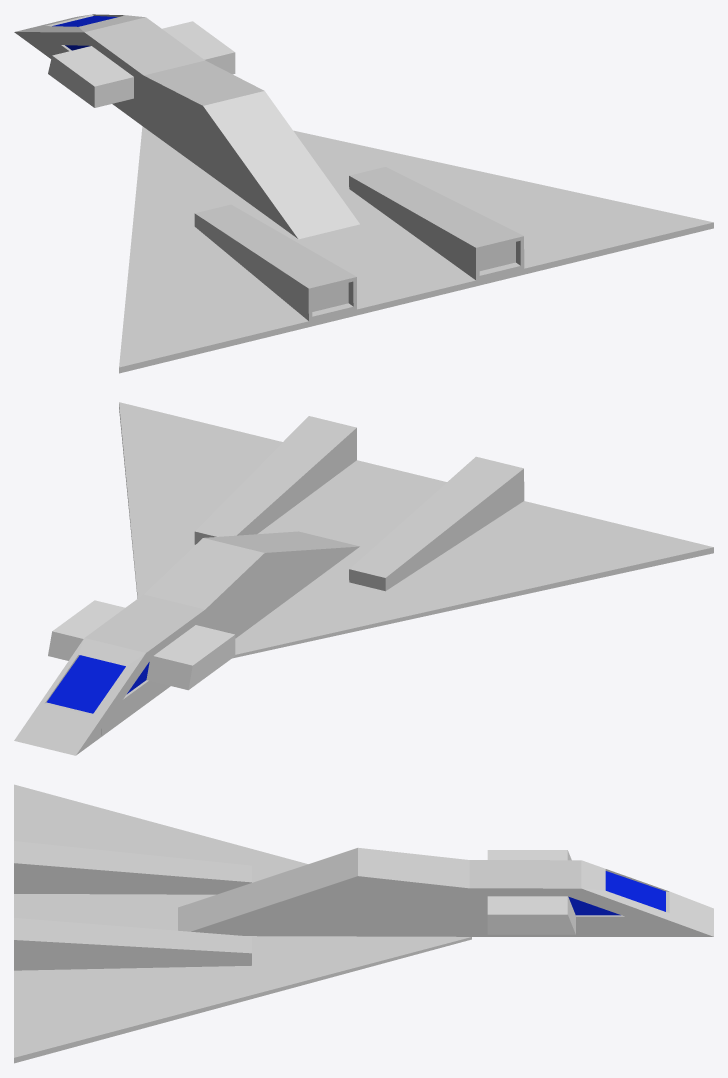
Rendered from AERONAVE 1.fbx.
3 renders of one model, top to bottom at view 1: azimuth 30°, elevation 25°; view 2: azimuth 150°, elevation 25°; view 3: azimuth 270°, elevation 25°, orthographic. The views are drawn at different scales.
Parts seen in each view (by area): view 1: Cube, Cube.001; view 2: Cube, Cube.001; view 3: Cube, Cube.001.
Boxes of the visible parts, x1,y1,x2,y2 form: Cube: [14, 14, 713, 373]; Cube.001: [48, 21, 235, 107]; Cube: [14, 402, 713, 755]; Cube.001: [48, 600, 235, 690]; Cube: [14, 784, 713, 1063]; Cube.001: [487, 850, 575, 934].
Bounding box in the file's own units: 5788 × 641 × 6262.
